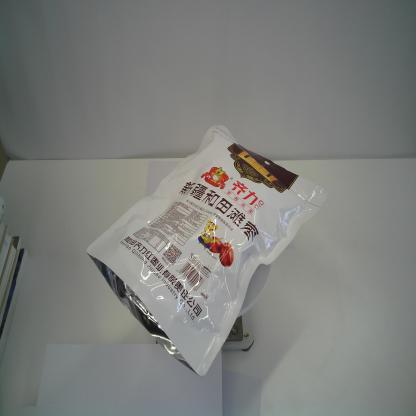Dried Food: (85, 124, 328, 378)
